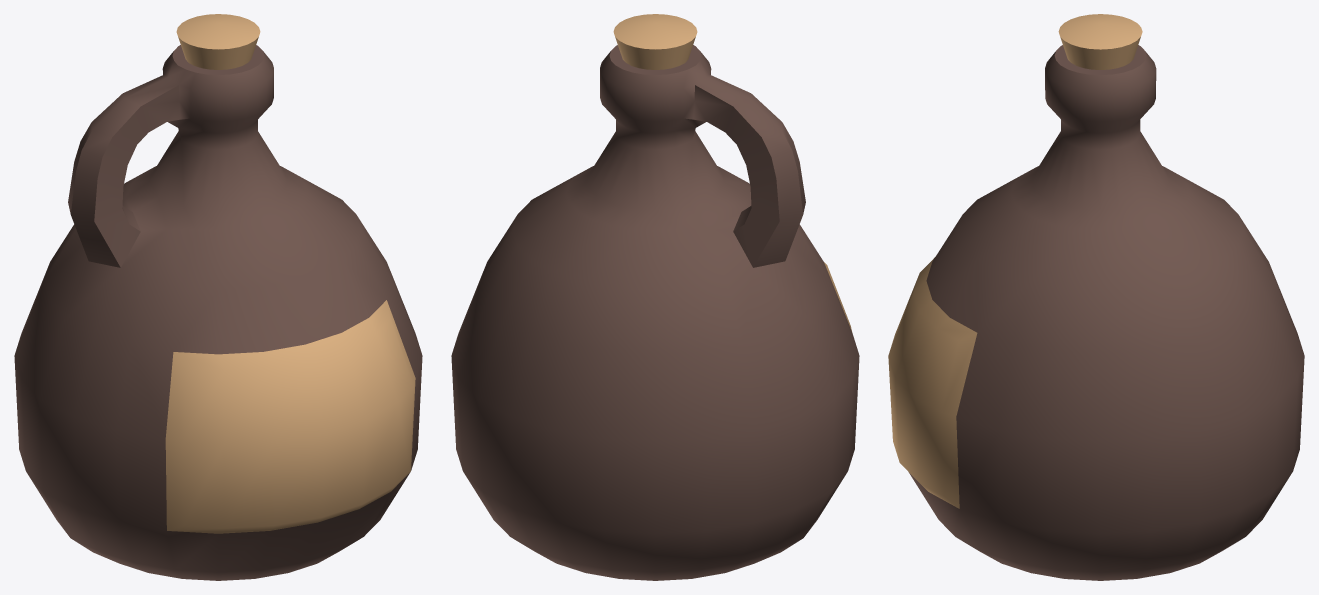
Rendered from ale_bottle_B.gltf.glb.
The picture shows the model from 3 angles, left to right: view 1: azimuth 30°, elevation 25°; view 2: azimuth 150°, elevation 25°; view 3: azimuth 270°, elevation 25°; orthographic projection.
Parts seen in each view (by area): view 1: ale_bottle_B; view 2: ale_bottle_B; view 3: ale_bottle_B.
Part boxes in pixels (box(x1,y1,x2,y2)): ale_bottle_B: box(14, 14, 422, 580); ale_bottle_B: box(451, 14, 859, 580); ale_bottle_B: box(888, 14, 1304, 580).
Size of the model in its own units: 0.5126 by 0.7052 by 0.5198.
